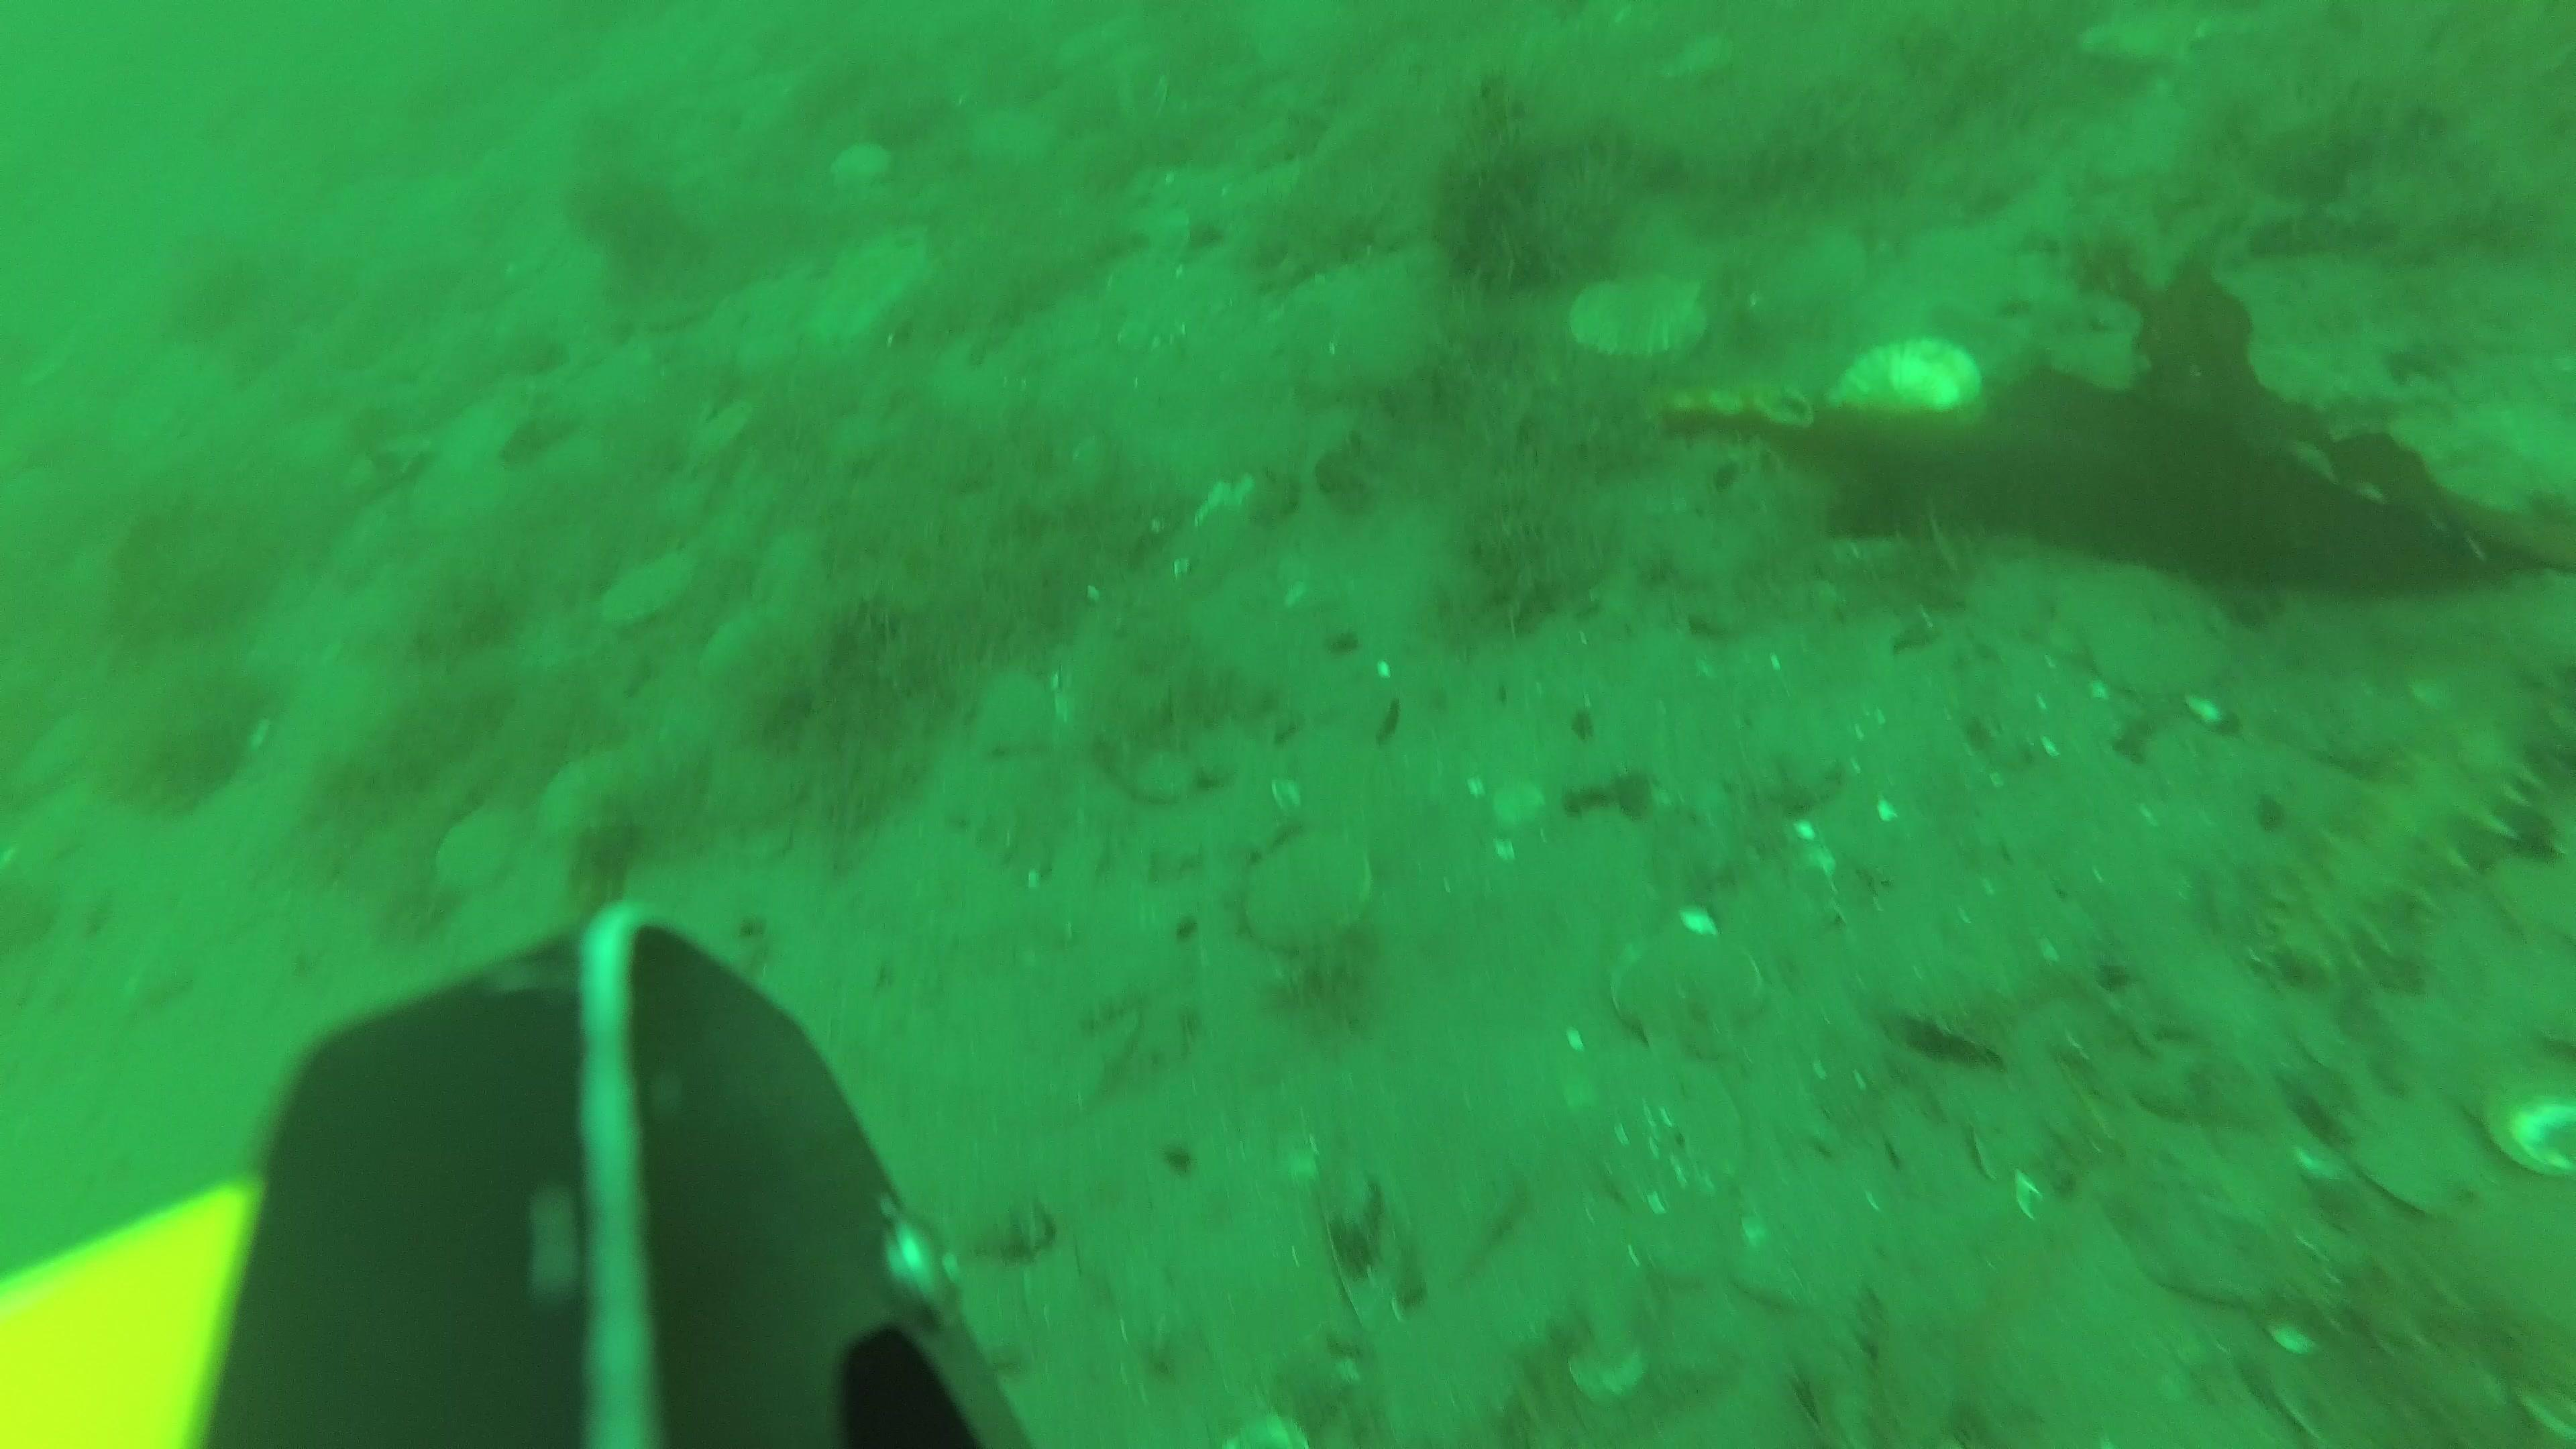scallop: (2114, 1171, 2304, 1316), (1587, 1062, 1750, 1221), (2051, 564, 2240, 701), (1615, 931, 1776, 1067), (1242, 830, 1376, 957), (1831, 326, 1982, 423), (1578, 265, 1711, 370), (598, 557, 706, 639), (433, 805, 525, 899), (973, 672, 1058, 764), (828, 142, 897, 198)
